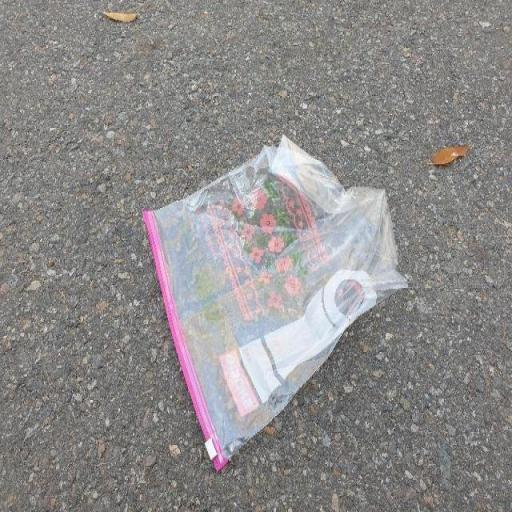plastic-bag: (141, 130, 409, 474)
